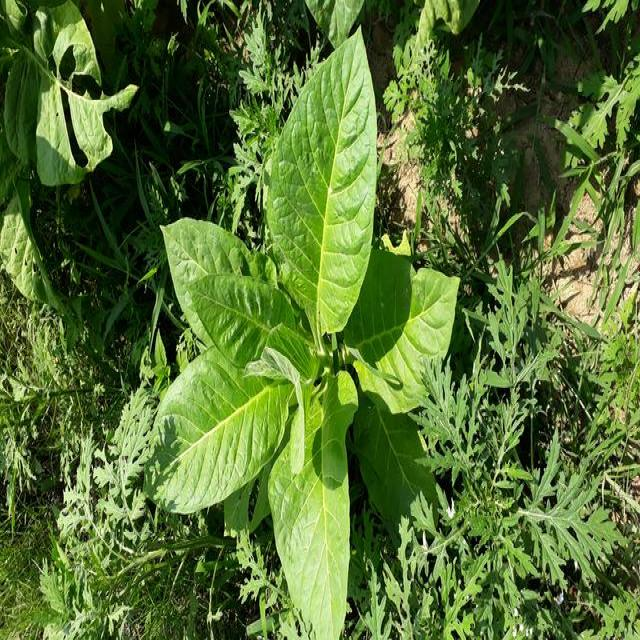crop: (156, 35, 464, 630)
